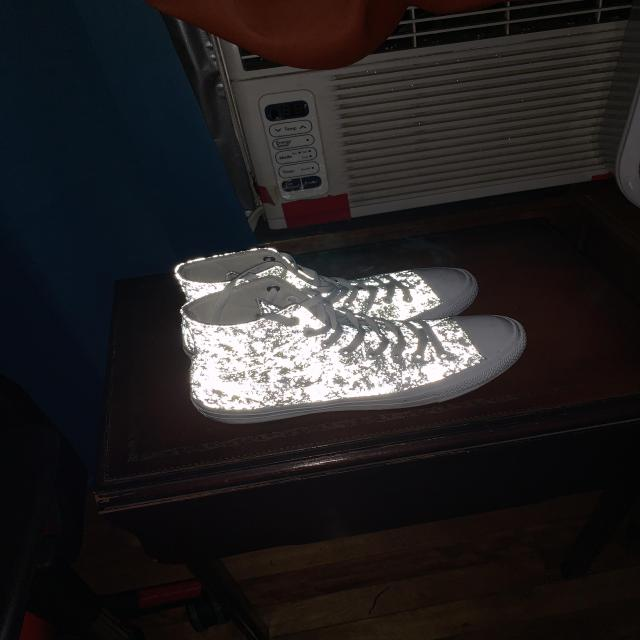shoes: (191, 287, 557, 430), (165, 249, 475, 314)
